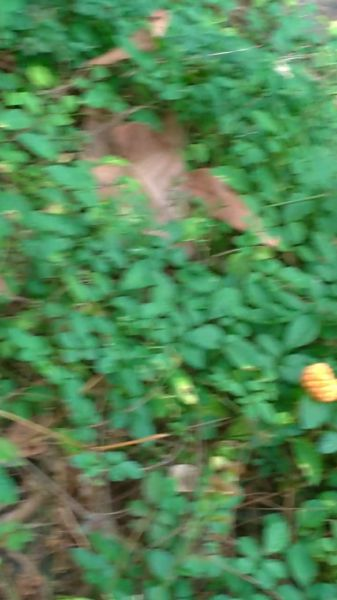eggs: (297, 358, 337, 409)
